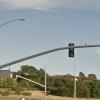Traffic light: (66, 39, 77, 63)
